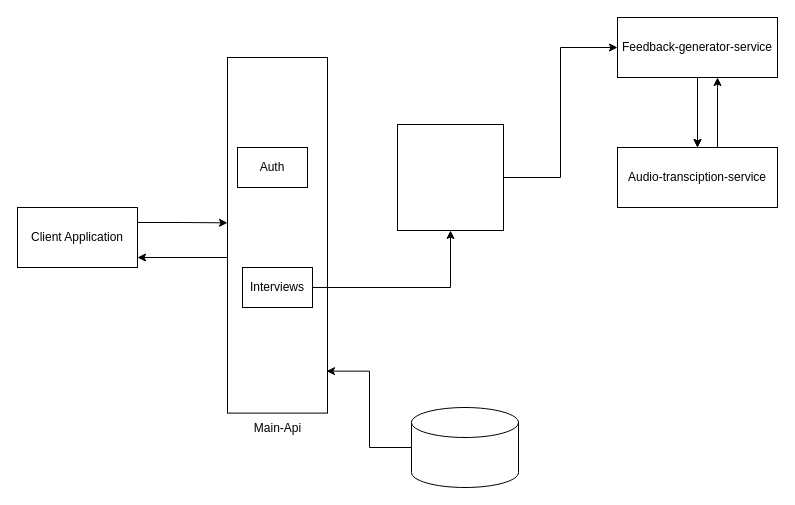
This 795x505 diagram has some shape labels left out. The shapes that lost their labels are listed below. From the top down, each one's centre as x and y in pixels, then its label:
(x=450, y=177): Task Queue
(x=464, y=447): DB
